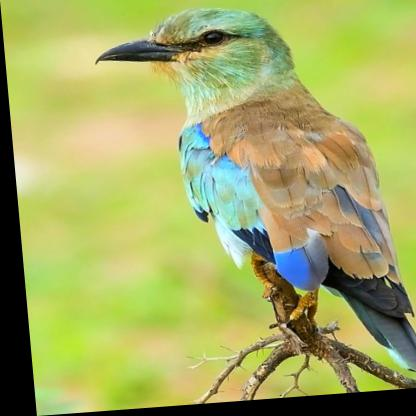Burung: (87, 0, 415, 398)
